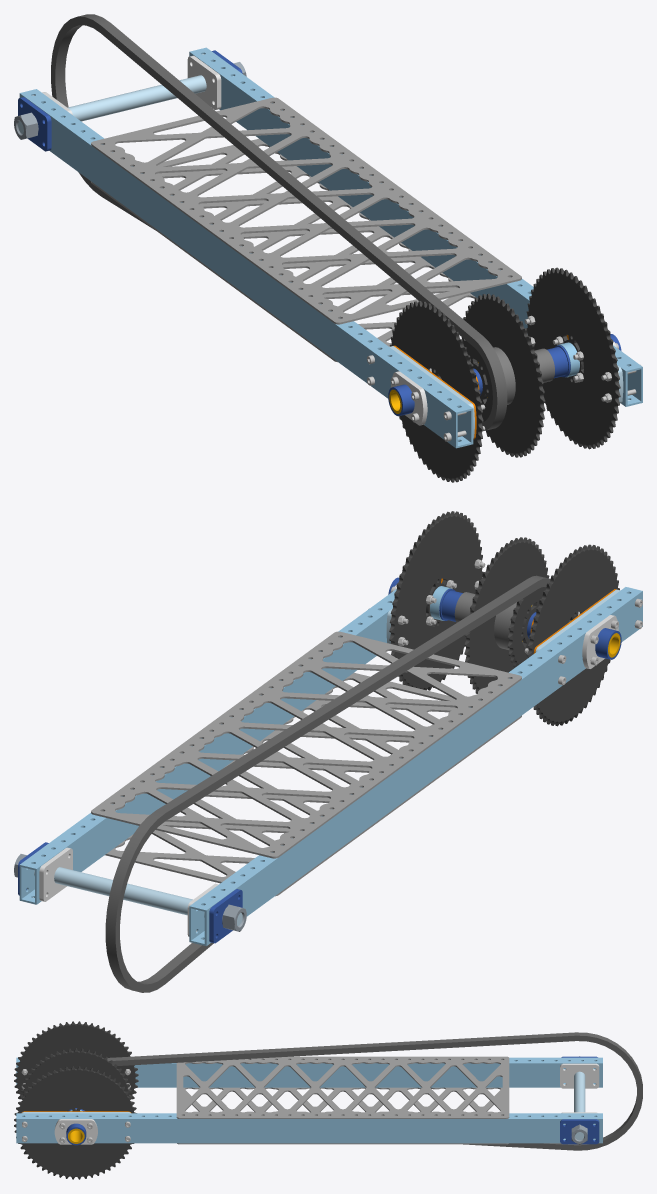
3 renders of one model, top to bottom at view 1: azimuth 30°, elevation 25°; view 2: azimuth 150°, elevation 25°; view 3: azimuth 270°, elevation 25°, orthographic. The views are drawn at different scales.
Parts seen in each view (by area): view 1: 03.02 Bottom Arm, Plate Sprocket (60T, #35 Chain, 1-1/8" Bearing Bore) (×2), 204 links #35 chain, Plate Sprocket (54T, #35 Chain, 1-1/8" Bearing Bore), Plate Sprocket (30T, #35 Chain, 1-1/8" Bearing Bore), 03.04 Cluster Sprocket <1>; view 2: 03.02 Bottom Arm, Plate Sprocket (60T, #35 Chain, 1-1/8" Bearing Bore) (×2), 204 links #35 chain, Plate Sprocket (54T, #35 Chain, 1-1/8" Bearing Bore), Plate Sprocket (30T, #35 Chain, 1-1/8" Bearing Bore), 03.04 Cluster Sprocket <1>; view 3: 03.02 Bottom Arm, Plate Sprocket (60T, #35 Chain, 1-1/8" Bearing Bore) (×2), 204 links #35 chain, Plate Sprocket (54T, #35 Chain, 1-1/8" Bearing Bore).
Part boxes in pixels (box(x1,y1,x2,y2)): 03.02 Bottom Arm: box(18, 47, 642, 448); Plate Sprocket (60T, #35 Chain, 1-1/8" Bearing Bore) (×2): box(389, 267, 620, 482); 204 links #35 chain: box(51, 14, 507, 430); Plate Sprocket (54T, #35 Chain, 1-1/8" Bearing Bore): box(461, 293, 545, 457); Plate Sprocket (30T, #35 Chain, 1-1/8" Bearing Bore): box(462, 338, 492, 421); 03.04 Cluster Sprocket <1>: box(473, 347, 515, 404); 03.02 Bottom Arm: box(18, 577, 642, 946); Plate Sprocket (60T, #35 Chain, 1-1/8" Bearing Bore) (×2): box(389, 511, 619, 726); 204 links #35 chain: box(105, 575, 550, 992); Plate Sprocket (54T, #35 Chain, 1-1/8" Bearing Bore): box(464, 537, 549, 693); Plate Sprocket (30T, #35 Chain, 1-1/8" Bearing Bore): box(507, 587, 546, 667); 03.04 Cluster Sprocket <1>: box(494, 602, 536, 649); 03.02 Bottom Arm: box(16, 1056, 602, 1145); Plate Sprocket (60T, #35 Chain, 1-1/8" Bearing Bore) (×2): box(14, 1021, 138, 1179); 204 links #35 chain: box(107, 1032, 642, 1150); Plate Sprocket (54T, #35 Chain, 1-1/8" Bearing Bore): box(20, 1048, 132, 1101).
Size of the model in its own units: 0.2576 by 0.1906 by 0.9454.
